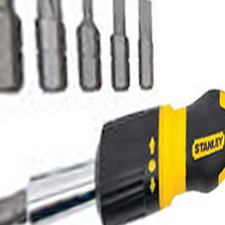screwdriver: (2, 95, 225, 225)
